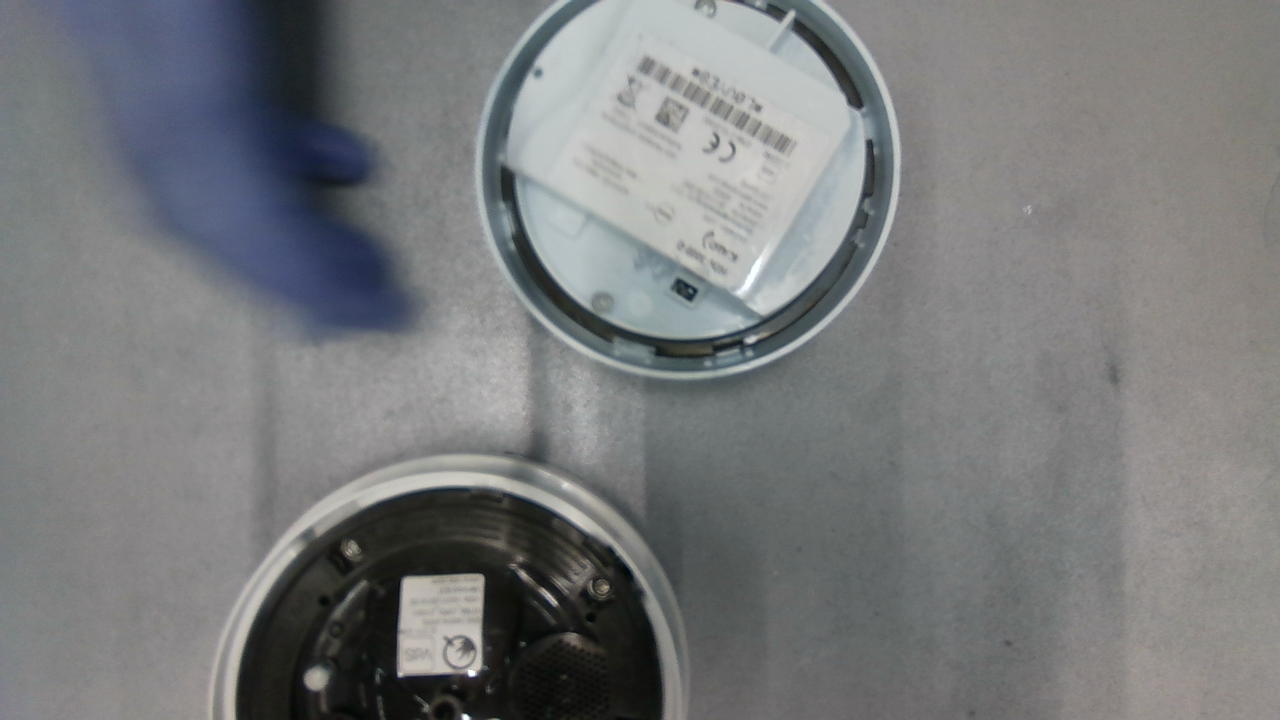HexScrew: (340, 536, 369, 567), (584, 576, 615, 605), (592, 291, 619, 316), (692, 0, 716, 21)
